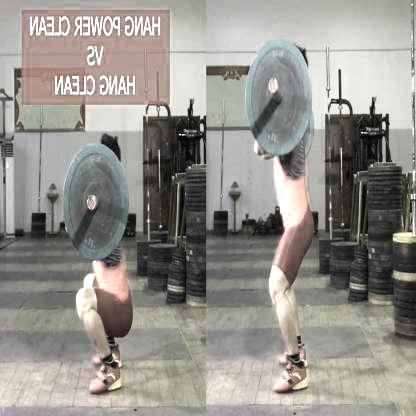Barbell: (264, 75, 277, 96), (83, 193, 94, 212)
